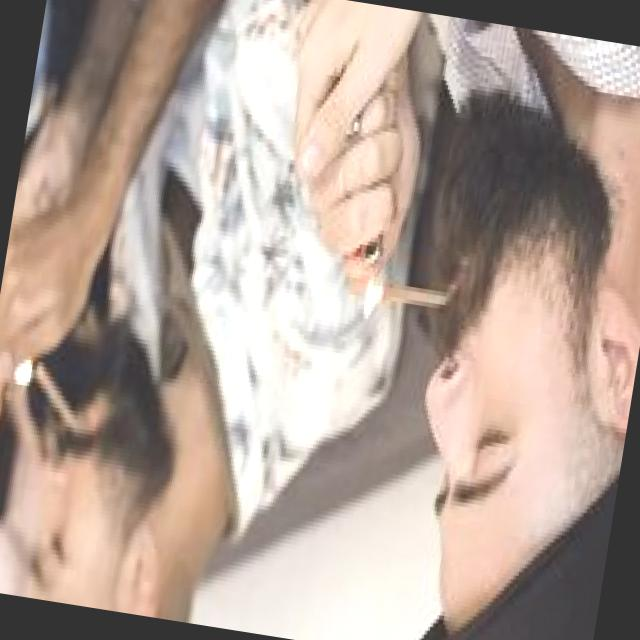smoke: (345, 264, 454, 327), (26, 353, 96, 434)
